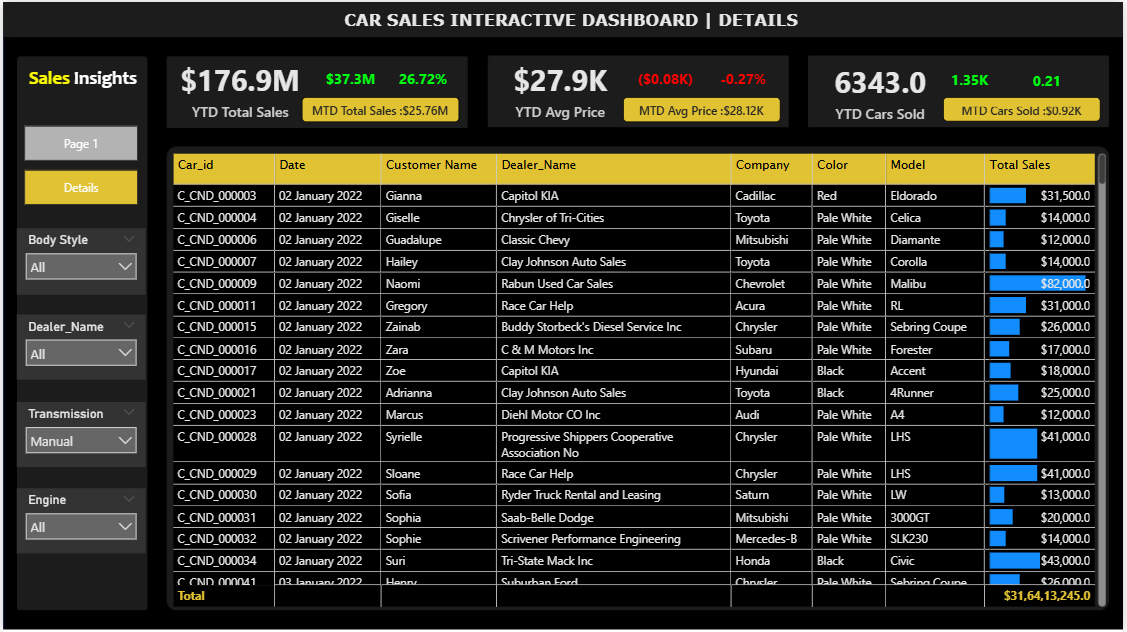

The dashboard page shown, as its layout file describes it:
{"tool":"powerbi","page":{"name":"Details","canvas":[1280,720],"ordinal":1},"visuals":[{"type":"card","fields":{"Values":["car_data.YTD Total Sales"]},"box":[145.5,63.1,251.1,75.5],"z":0},{"type":"card","fields":{"Values":["car_data.Sales Difference"]},"box":[247,63.1,300.5,53.5],"z":1000},{"type":"card","fields":{"Values":["car_data.YoY Sales Growth"]},"box":[330.7,63.1,300.5,53.5],"z":2000},{"type":"card","fields":{"Values":["car_data.MTD KPI"]},"box":[341.7,108.4,179.8,28.8],"z":3000},{"type":"card","fields":{"Values":["car_data.YTD Avg Price"]},"box":[511.8,61.7,251.1,78.2],"z":4000},{"type":"card","fields":{"Values":["car_data.Avg Price Diff"]},"box":[606.5,63.1,300.5,53.5],"z":5000},{"type":"card","fields":{"Values":["car_data.YoY Avg Price Growth"]},"box":[695.7,63.1,300.5,53.5],"z":6000},{"type":"card","fields":{"Values":["car_data.MTD Avg Price KPI"]},"box":[708.1,108.4,179.8,28.8],"z":7000},{"type":"card","fields":{"Values":["car_data.YTD Cars Sold"]},"box":[876.8,63.1,251.1,78.2],"z":8000},{"type":"card","fields":{"Values":["car_data.Cars Sold Diff"]},"box":[954.8,64.6,301.2,53.8],"z":9000},{"type":"card","fields":{"Values":["car_data.YoY Car Sold Growth"]},"box":[1105.2,65.9,174.8,53.8],"z":10000},{"type":"card","fields":{"Values":["car_data.MTD Cars Sold KPI"]},"box":[1074.5,108.9,180.2,28.2],"z":11000},{"type":"textbox","box":[317.1,4.3,664.3,65.7],"z":12000},{"type":"slicer","fields":{"Values":["car_data.Body Style"]},"box":[15.7,258.6,147.1,75.7],"z":13000},{"type":"slicer","fields":{"Values":["car_data.Dealer_Name"]},"box":[15.7,357.1,147.1,74.3],"z":14000},{"type":"slicer","fields":{"Values":["car_data.Transmission"]},"box":[15.7,457.1,147.1,74.3],"z":15000},{"type":"slicer","fields":{"Values":["car_data.Engine"]},"box":[15.7,555.7,147.1,74.3],"z":16000},{"type":"tableEx","fields":{"Values":["car_data.Car_id","car_data.Date","car_data.Customer Name","car_data.Dealer_Name","car_data.Company","car_data.Color","car_data.Model","Sum(car_data.Price ($))"]},"box":[188.6,168.6,1077.1,527.1],"z":17000},{"type":"textbox","box":[24.3,68.6,138.6,47.1],"z":18000},{"type":"pageNavigator","box":[24.3,141.4,130,90],"z":18001}]}

Visuals, with their boxes in screenshot pixels (x1, y1, x2, y2), scaled from the page's 1280x720 canvas onto the 1127x632 screenshot:
card - car_data.YTD Total Sales: (128,55,349,122)
card - car_data.Sales Difference: (217,55,482,102)
card - car_data.YoY Sales Growth: (291,55,556,102)
card - car_data.MTD KPI: (301,95,459,120)
card - car_data.YTD Avg Price: (451,54,672,123)
card - car_data.Avg Price Diff: (534,55,799,102)
card - car_data.YoY Avg Price Growth: (613,55,877,102)
card - car_data.MTD Avg Price KPI: (623,95,782,120)
card - car_data.YTD Cars Sold: (772,55,993,124)
card - car_data.Cars Sold Diff: (841,57,1106,104)
card - car_data.YoY Car Sold Growth: (973,58,1126,105)
card - car_data.MTD Cars Sold KPI: (946,96,1105,120)
textbox: (279,4,864,61)
slicer - car_data.Body Style: (14,227,143,293)
slicer - car_data.Dealer_Name: (14,313,143,379)
slicer - car_data.Transmission: (14,401,143,466)
slicer - car_data.Engine: (14,488,143,553)
tableEx - car_data.Car_id x car_data.Date: (166,148,1114,611)
textbox: (21,60,143,102)
pageNavigator: (21,124,136,203)
